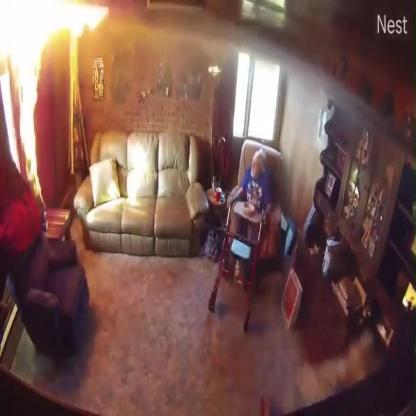fire: (12, 2, 43, 193), (0, 3, 109, 43)
